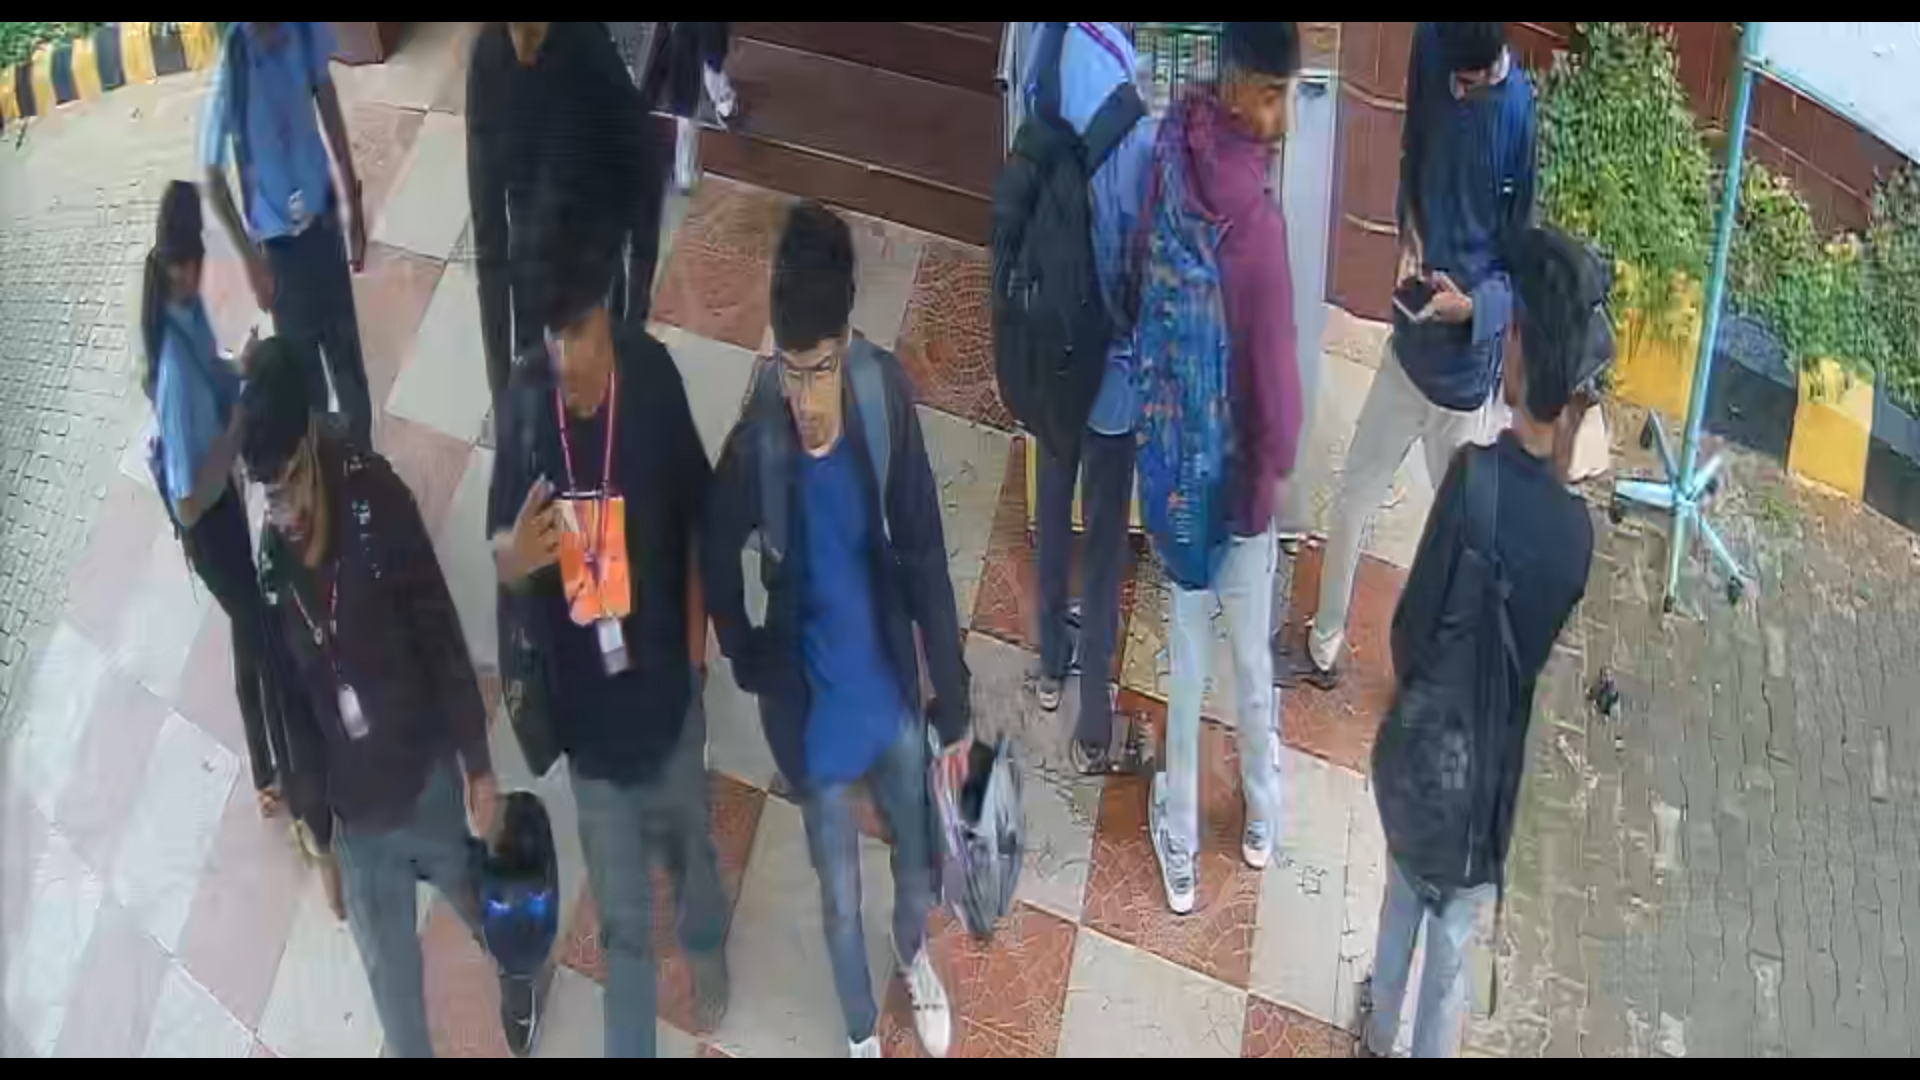intruder: (715, 181, 992, 1080)
not intruder: (229, 364, 533, 1080), (498, 244, 737, 1072)
